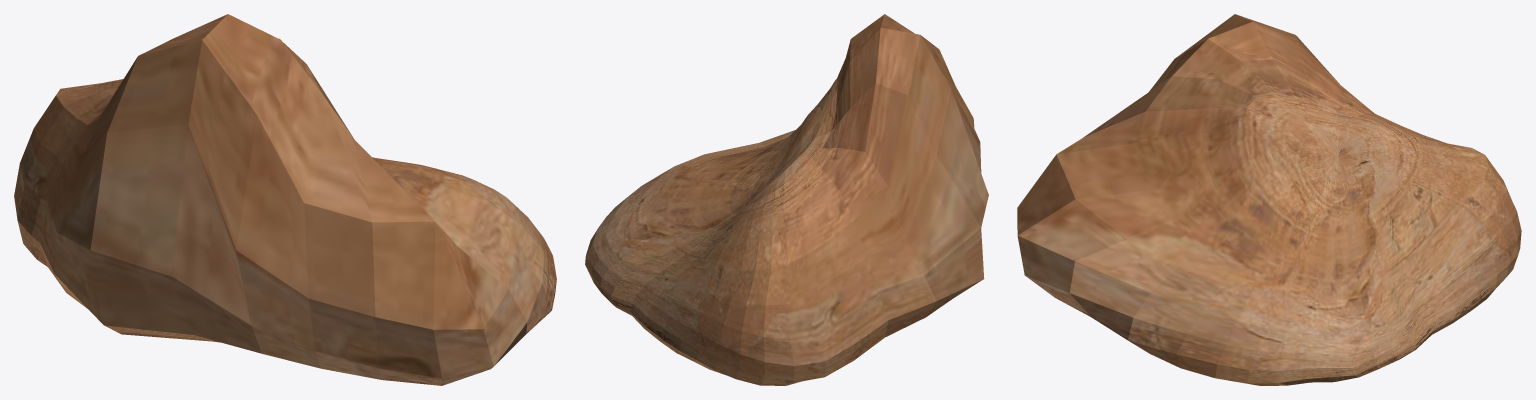
File: rock4.obj
The picture shows the model from 3 angles, left to right: view 1: azimuth 30°, elevation 25°; view 2: azimuth 150°, elevation 25°; view 3: azimuth 270°, elevation 25°; orthographic projection. The views are drawn at different scales.
Visible parts, largest first — view 1: Sphere; view 2: Sphere; view 3: Sphere.
Part boxes in pixels (x1,y1,x2,y2): Sphere: [14, 14, 556, 385]; Sphere: [585, 14, 988, 385]; Sphere: [1017, 14, 1521, 385].
Bounding box in the file's own units: 3.43 × 2.36 × 4.32.
Materials: 1 (1 with a texture image).
